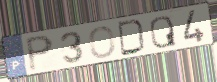3: (58, 30, 84, 65)
4: (182, 8, 206, 44)
D: (116, 19, 148, 57)
O: (88, 25, 117, 60)
P: (24, 34, 56, 74)
Q: (149, 15, 179, 50)
